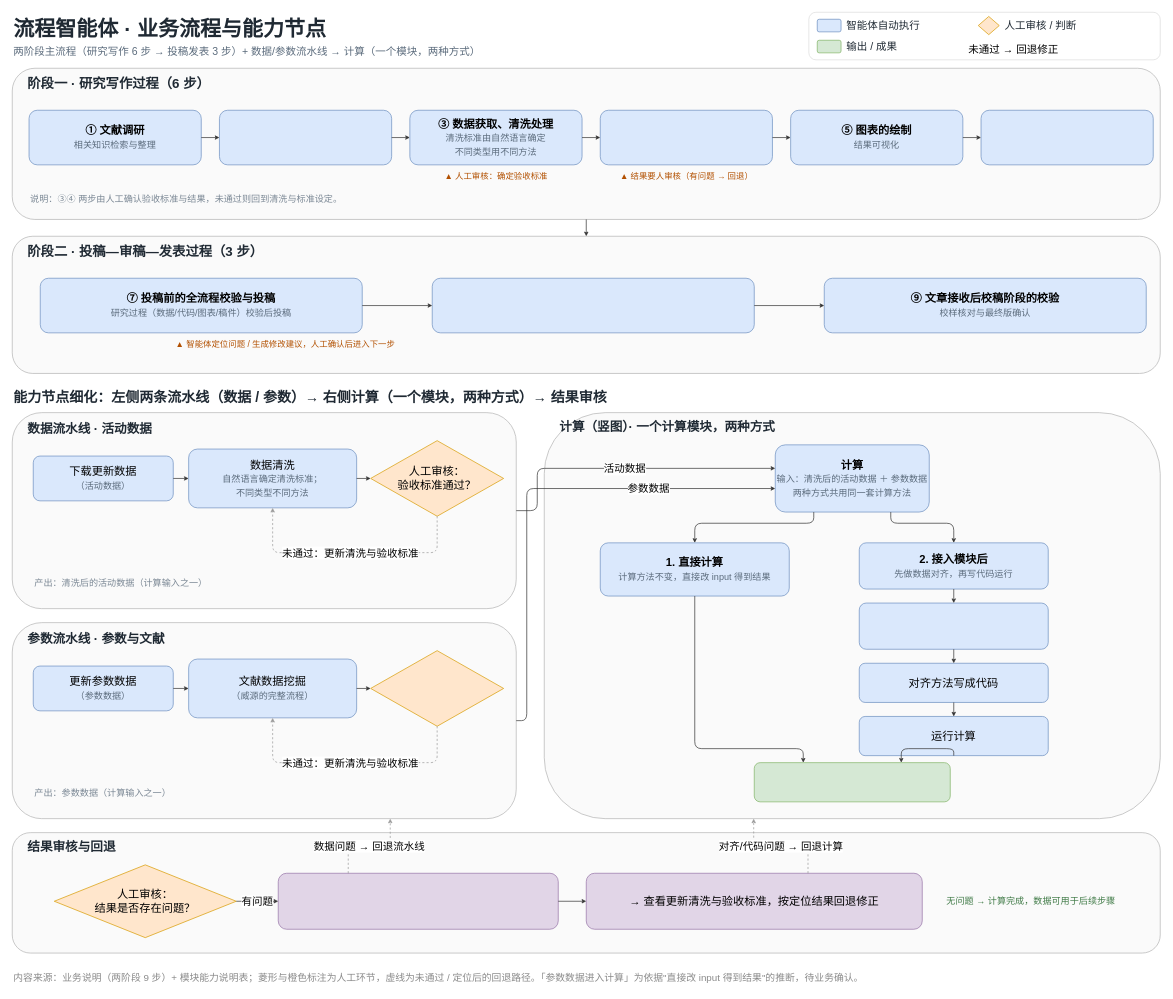
Some shapes in this 1173 by 999 pixel diagram are drawn without their labels. Each missing label, with the centre of its shape:
"② 科学问题的凝练与提取 从文献中提炼研究问题" goes at (x=305, y=137).
"④ 模型的选择与运行 运行模型 → 得到结果" goes at (x=686, y=137).
"⑥ 文章的撰写和修改 成稿与迭代修改" goes at (x=1066, y=137).
"⑧ 回复评审意见与最终校验 按评审意见修改并回复，最终校验" goes at (x=593, y=305).
"人工审核： 确定验收标准" goes at (x=437, y=688).
"数据对齐 自然语言形成对齐文档 + 人工审核" goes at (x=953, y=625).
"有问题 → 自动定位（数据 / 对齐 / 运行代码）" goes at (x=418, y=901).
"输出数据" goes at (x=852, y=782).
